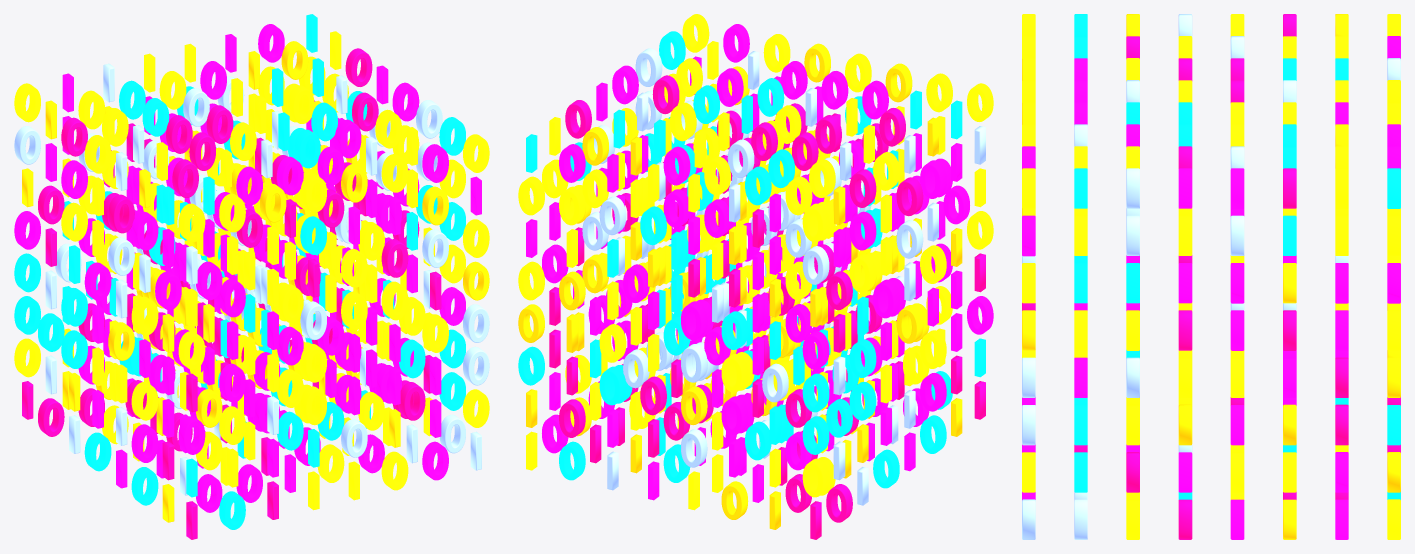
File: binary-cube.glb
3 views of the same model, side by side, from view 1: azimuth 30°, elevation 25°; view 2: azimuth 150°, elevation 25°; view 3: azimuth 270°, elevation 25° (orthographic). The views are drawn at different scales.
Visible parts, largest first — view 1: D_5_0_0, D_5_0_4, D_0_4_0, D_0_0_7, D_0_4_4, D_0_4_7, D_0_7_4, D_0_7_6, D_6_0_7, D_7_0_1, D_7_0_3, D_7_0_5 (+101 smaller); view 2: D_0_7_7, D_5_7_2, D_0_7_1, D_0_3_5, D_0_7_3, D_0_3_6, D_3_1_7, D_6_7_7, D_0_3_3, D_3_7_1, D_4_7_6, D_5_7_6 (+94 smaller); view 3: D_7_3_2, D_7_3_0, D_7_3_1, D_7_3_3, D_7_3_4, D_7_3_7, D_7_4_0, D_7_4_3, D_7_3_5, D_7_3_6, D_7_4_1, D_7_4_2 (+52 smaller).
Part boxes in pixels (x1,y1,x2,y2): D_5_0_0: (381,451,408,490); D_5_0_4: (381,281,408,320); D_0_4_0: (84,432,111,471); D_0_0_7: (178,203,205,242); D_0_4_4: (84,262,111,301); D_0_4_7: (84,135,111,173); D_0_7_4: (14,211,40,249); D_0_7_6: (14,126,40,164); D_6_0_7: (422,144,448,182); D_7_0_1: (463,389,489,427); D_7_0_3: (463,304,489,342); D_7_0_5: (463,219,489,257); D_0_7_7: (802,203,829,242); D_5_7_2: (599,366,626,405); D_0_7_1: (802,458,829,497); D_0_3_5: (896,220,923,258); D_0_7_3: (802,373,829,412); D_0_3_6: (896,177,923,216); D_3_1_7: (821,71,848,109); D_6_7_7: (559,144,585,182); D_0_3_3: (896,305,923,343); D_3_7_1: (681,429,707,467); D_4_7_6: (640,206,666,245); D_5_7_6: (599,196,626,235); D_7_3_2: (1178,404,1192,445); D_7_3_0: (1178,499,1192,539); D_7_3_1: (1178,452,1192,492); D_7_3_3: (1178,357,1192,397); D_7_3_4: (1178,310,1192,350); D_7_3_7: (1178,168,1192,208); D_7_4_0: (1230,499,1244,539); D_7_4_3: (1230,357,1244,397); D_7_3_5: (1178,263,1192,303); D_7_3_6: (1178,215,1192,255); D_7_4_1: (1230,452,1244,492); D_7_4_2: (1230,405,1244,445).
Bounding box in the file's own units: 3.76 × 3.9 × 3.63.
